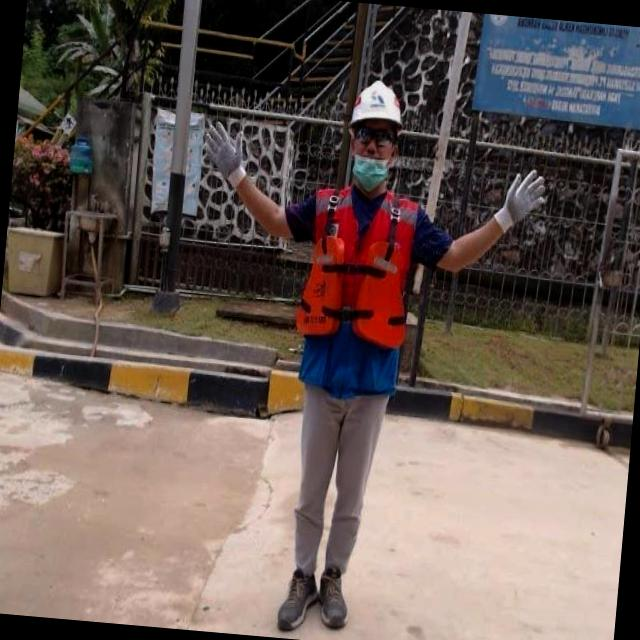vest: (288, 180, 419, 394)
